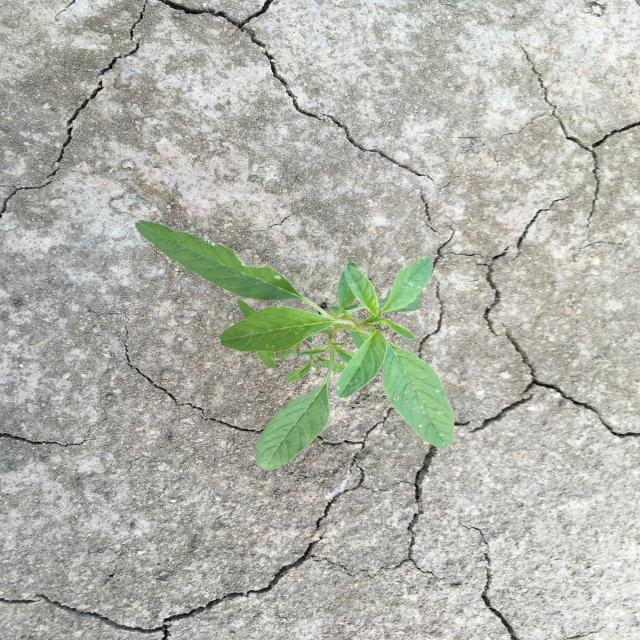Waterhemp: (134, 219, 456, 472)
